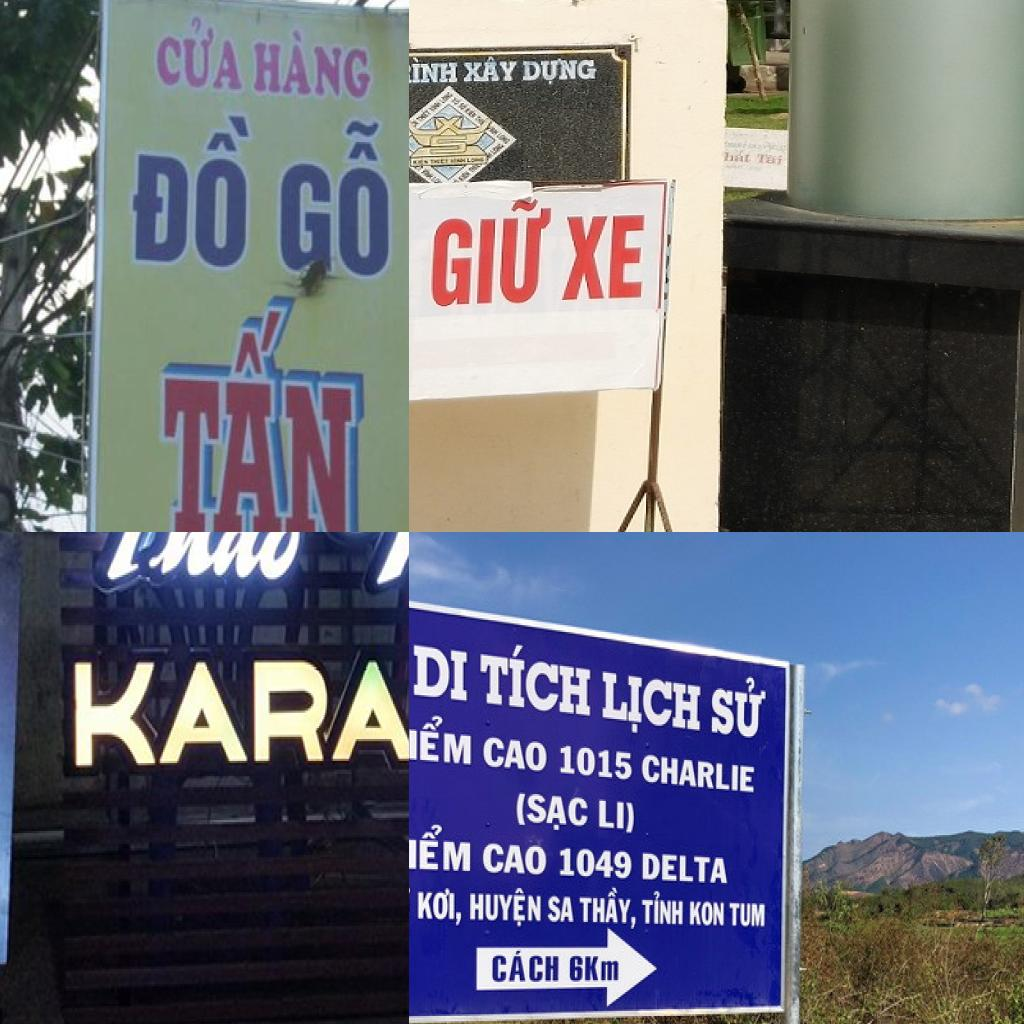text: (156, 290, 378, 532), (73, 660, 409, 769), (128, 110, 255, 275), (276, 115, 396, 282), (59, 532, 308, 598), (423, 196, 557, 312), (247, 22, 374, 102), (474, 638, 593, 720), (559, 210, 651, 305), (598, 668, 706, 743), (154, 14, 248, 94), (639, 748, 758, 799), (708, 668, 771, 748), (409, 706, 476, 775), (409, 638, 472, 710), (639, 845, 731, 890), (514, 787, 590, 837), (557, 842, 637, 888), (468, 884, 543, 932), (557, 739, 633, 784), (409, 821, 473, 874), (479, 837, 549, 881), (484, 731, 548, 779), (579, 886, 638, 931), (491, 948, 562, 985), (520, 55, 603, 86), (411, 888, 464, 931), (461, 54, 521, 86), (597, 794, 638, 839), (640, 888, 685, 929), (409, 55, 462, 88), (546, 891, 576, 931), (728, 900, 768, 929), (688, 898, 724, 929), (723, 148, 756, 164), (754, 151, 786, 167)
